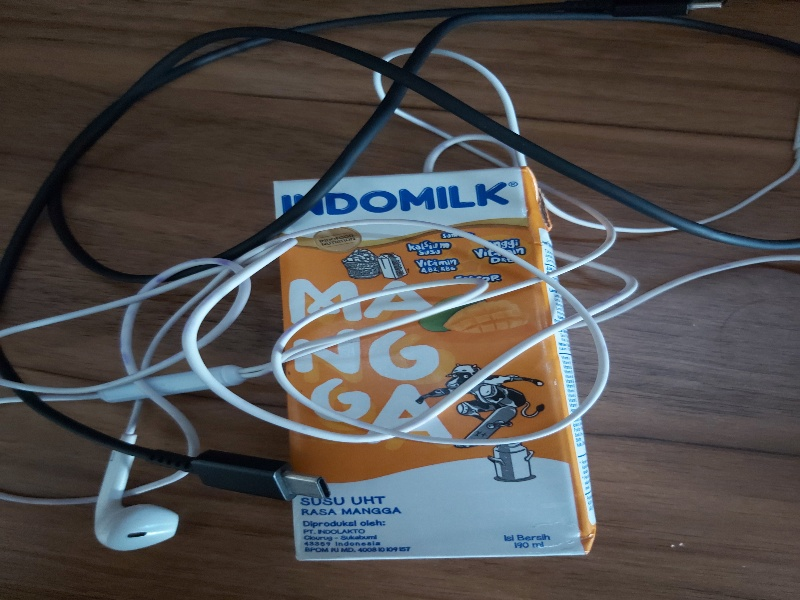mangga: (272, 166, 602, 565)
